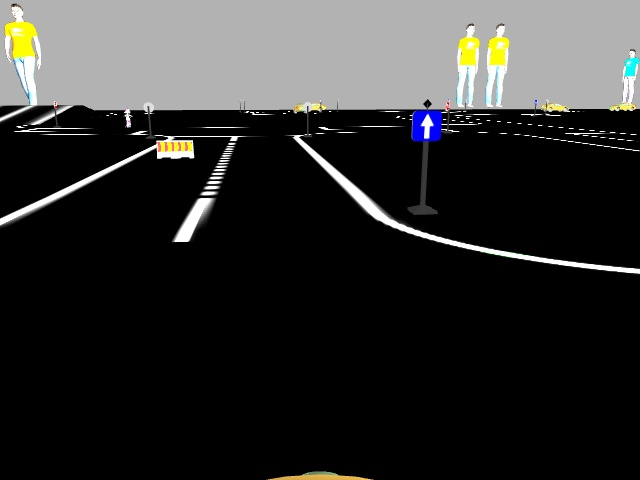ClosedRoadStand: (155, 141, 192, 157)
OneWay: (412, 112, 441, 141)
